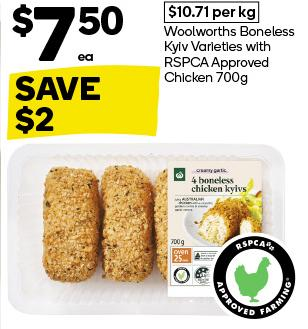description_block: (157, 23, 300, 90)
price_main: (5, 3, 130, 65)
product_image_block: (3, 144, 297, 323)
promo_text_block: (3, 68, 160, 137)
unit_price_block: (156, 0, 269, 25)
